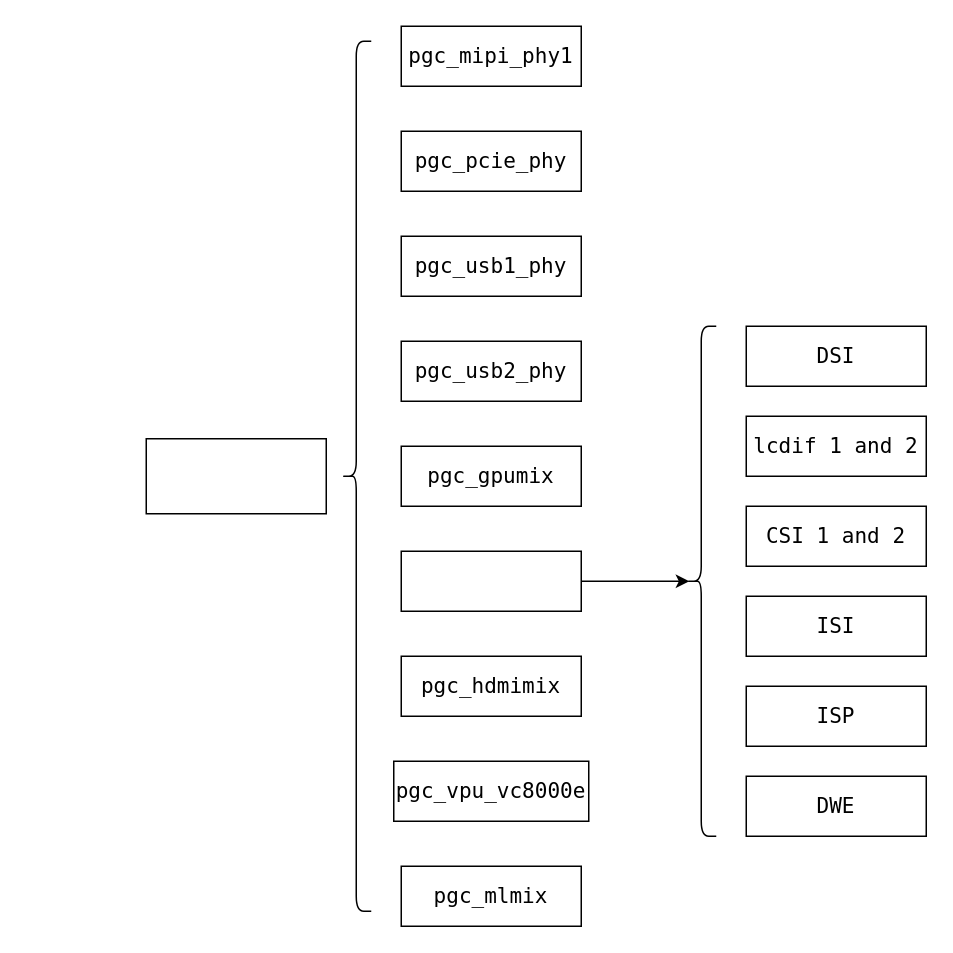
Some shapes in this 953 by 953 pixel diagram are drawn without their labels. The shapes that lost their labels are listed below. From the top down, each one's box as (x1, y1, x2, y2) in pixels, then its label:
(145, 437, 326, 514): gpc: gpc@303a0000
(400, 550, 581, 611): pgc_mediamix
